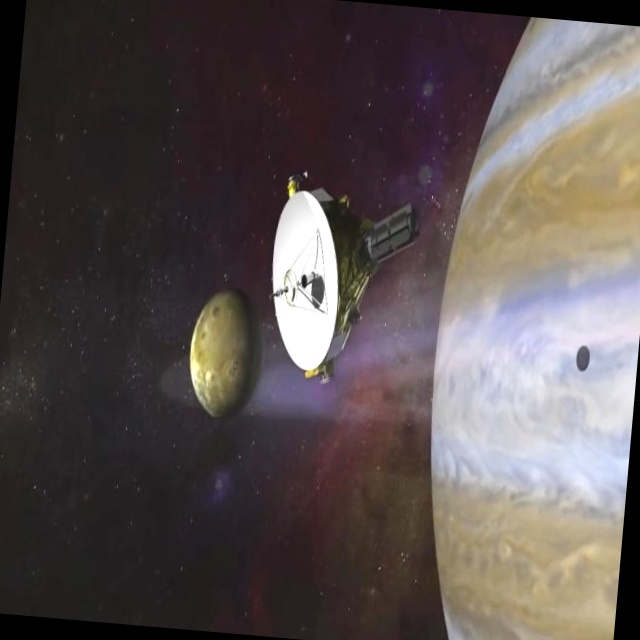medium_debris: (249, 125, 398, 394)
